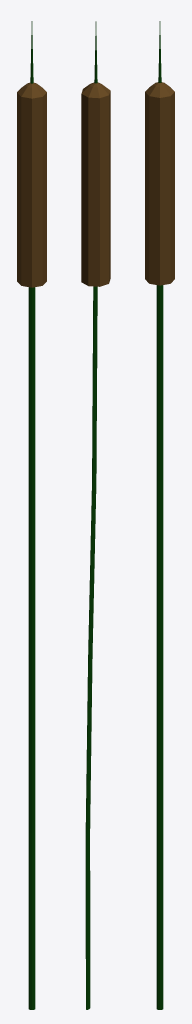
Rendered from Schilfrohr_01_rdy.fbx.
The picture shows the model from 3 angles, left to right: view 1: azimuth 90°, elevation 25°; view 2: azimuth 150°, elevation 25°; view 3: azimuth 270°, elevation 25°; orthographic projection.
Parts seen in each view (by area): view 1: Schilfrohr_01; view 2: Schilfrohr_01; view 3: Schilfrohr_01.
Part boxes in pixels (<box>): Schilfrohr_01: <box>17,21,46,1009</box>; Schilfrohr_01: <box>81,21,110,1009</box>; Schilfrohr_01: <box>145,21,174,1009</box>.
Bounding box in the file's own units: 18.67 × 683 × 18.67.
